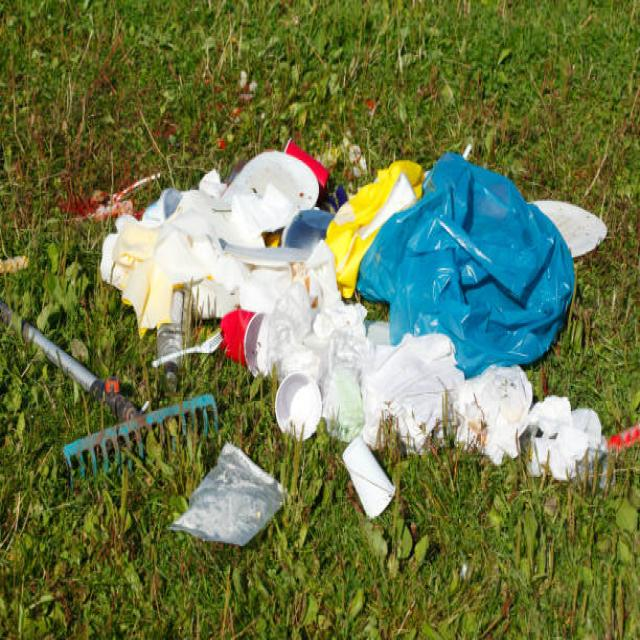plastic: (109, 146, 590, 373), (330, 166, 558, 347)
